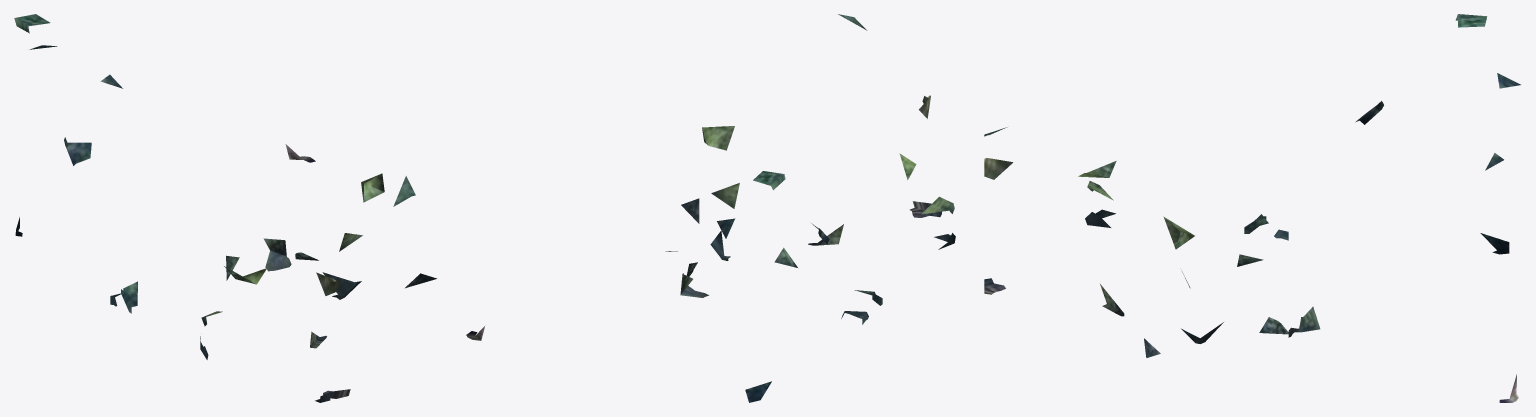
3 renders of one model, left to right at view 1: azimuth 30°, elevation 25°; view 2: azimuth 150°, elevation 25°; view 3: azimuth 270°, elevation 25°, orthographic. The views are drawn at different scales.
Visible parts, largest first — view 1: 30436272704370407627_1; view 2: 30436272704370407627_1; view 3: 30436272704370407627_1.
Boxes of the visible parts, bbox=[...] form: 30436272704370407627_1: bbox=[14, 14, 436, 402]; 30436272704370407627_1: bbox=[466, 14, 955, 402]; 30436272704370407627_1: bbox=[984, 14, 1520, 402].
Size of the model in its own units: 23.17 by 16.18 by 33.78.
Materials: 1 (1 with a texture image).
